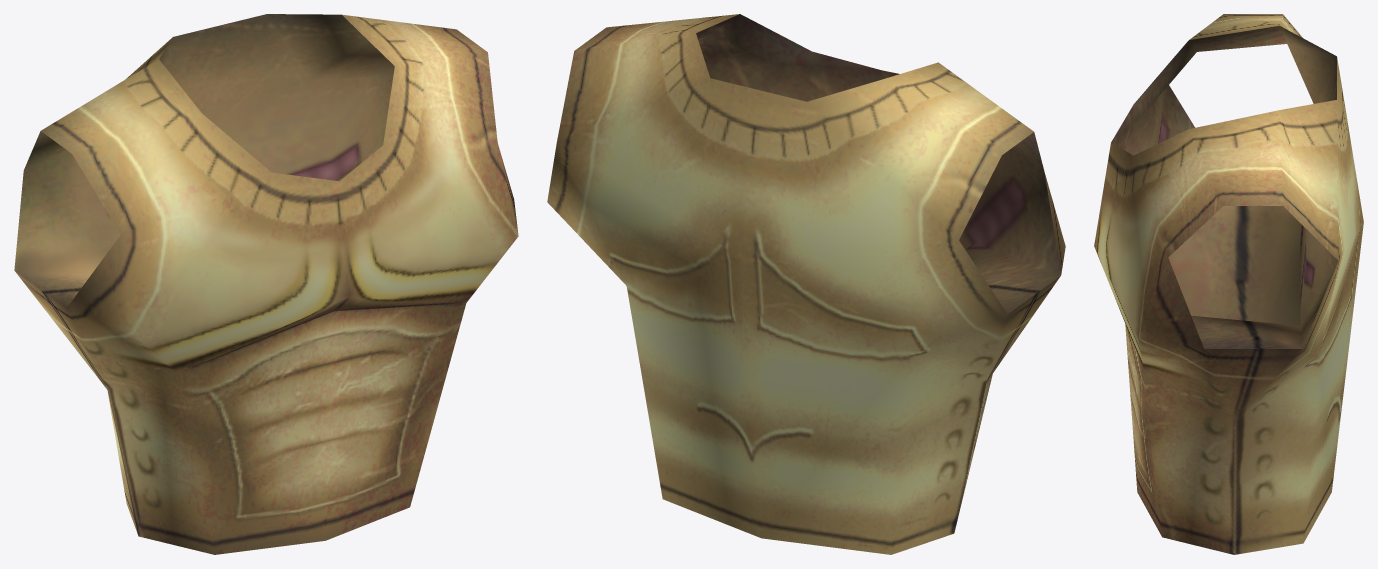
Rendered from armor-2.glb.
3 renders of one model, left to right at view 1: azimuth 30°, elevation 25°; view 2: azimuth 150°, elevation 25°; view 3: azimuth 270°, elevation 25°, orthographic. The views are drawn at different scales.
Visible parts, largest first — view 1: armor_2.001_Plane.008; view 2: armor_2.001_Plane.008; view 3: armor_2.001_Plane.008.
Part boxes in pixels (x1,y1,x2,y2): armor_2.001_Plane.008: [14, 14, 518, 554]; armor_2.001_Plane.008: [547, 14, 1065, 554]; armor_2.001_Plane.008: [1094, 14, 1363, 554].
Size of the model in its own units: 1.37 by 1.31 by 0.7552.
Materials: 1 (1 with a texture image).
